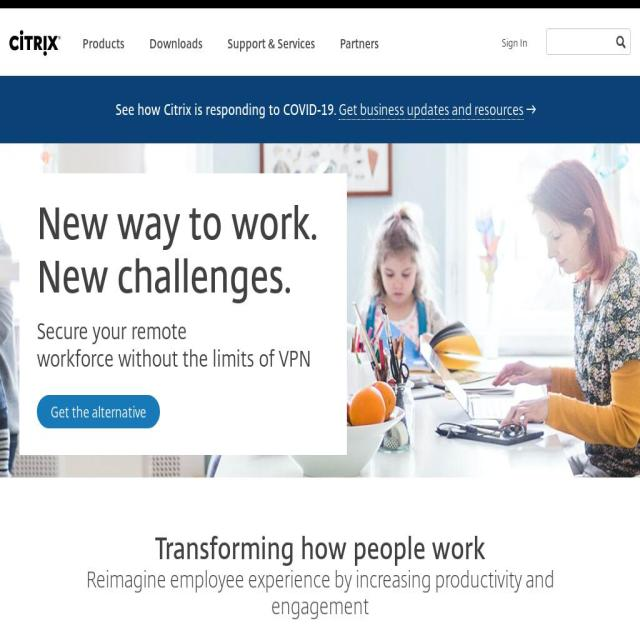button: (37, 395, 160, 428), (216, 28, 326, 62), (339, 100, 524, 120), (138, 28, 214, 62), (71, 28, 136, 62), (492, 30, 537, 78), (329, 28, 390, 62)
field: (546, 28, 631, 55), (610, 30, 630, 55)
heading: (86, 565, 554, 620), (155, 528, 485, 568)
image: (0, 0, 640, 8)
text: (37, 193, 319, 305), (37, 316, 312, 372), (116, 100, 337, 119), (339, 100, 524, 119), (51, 402, 147, 422), (227, 35, 315, 52), (150, 35, 202, 52), (82, 35, 124, 52), (340, 35, 379, 52)
